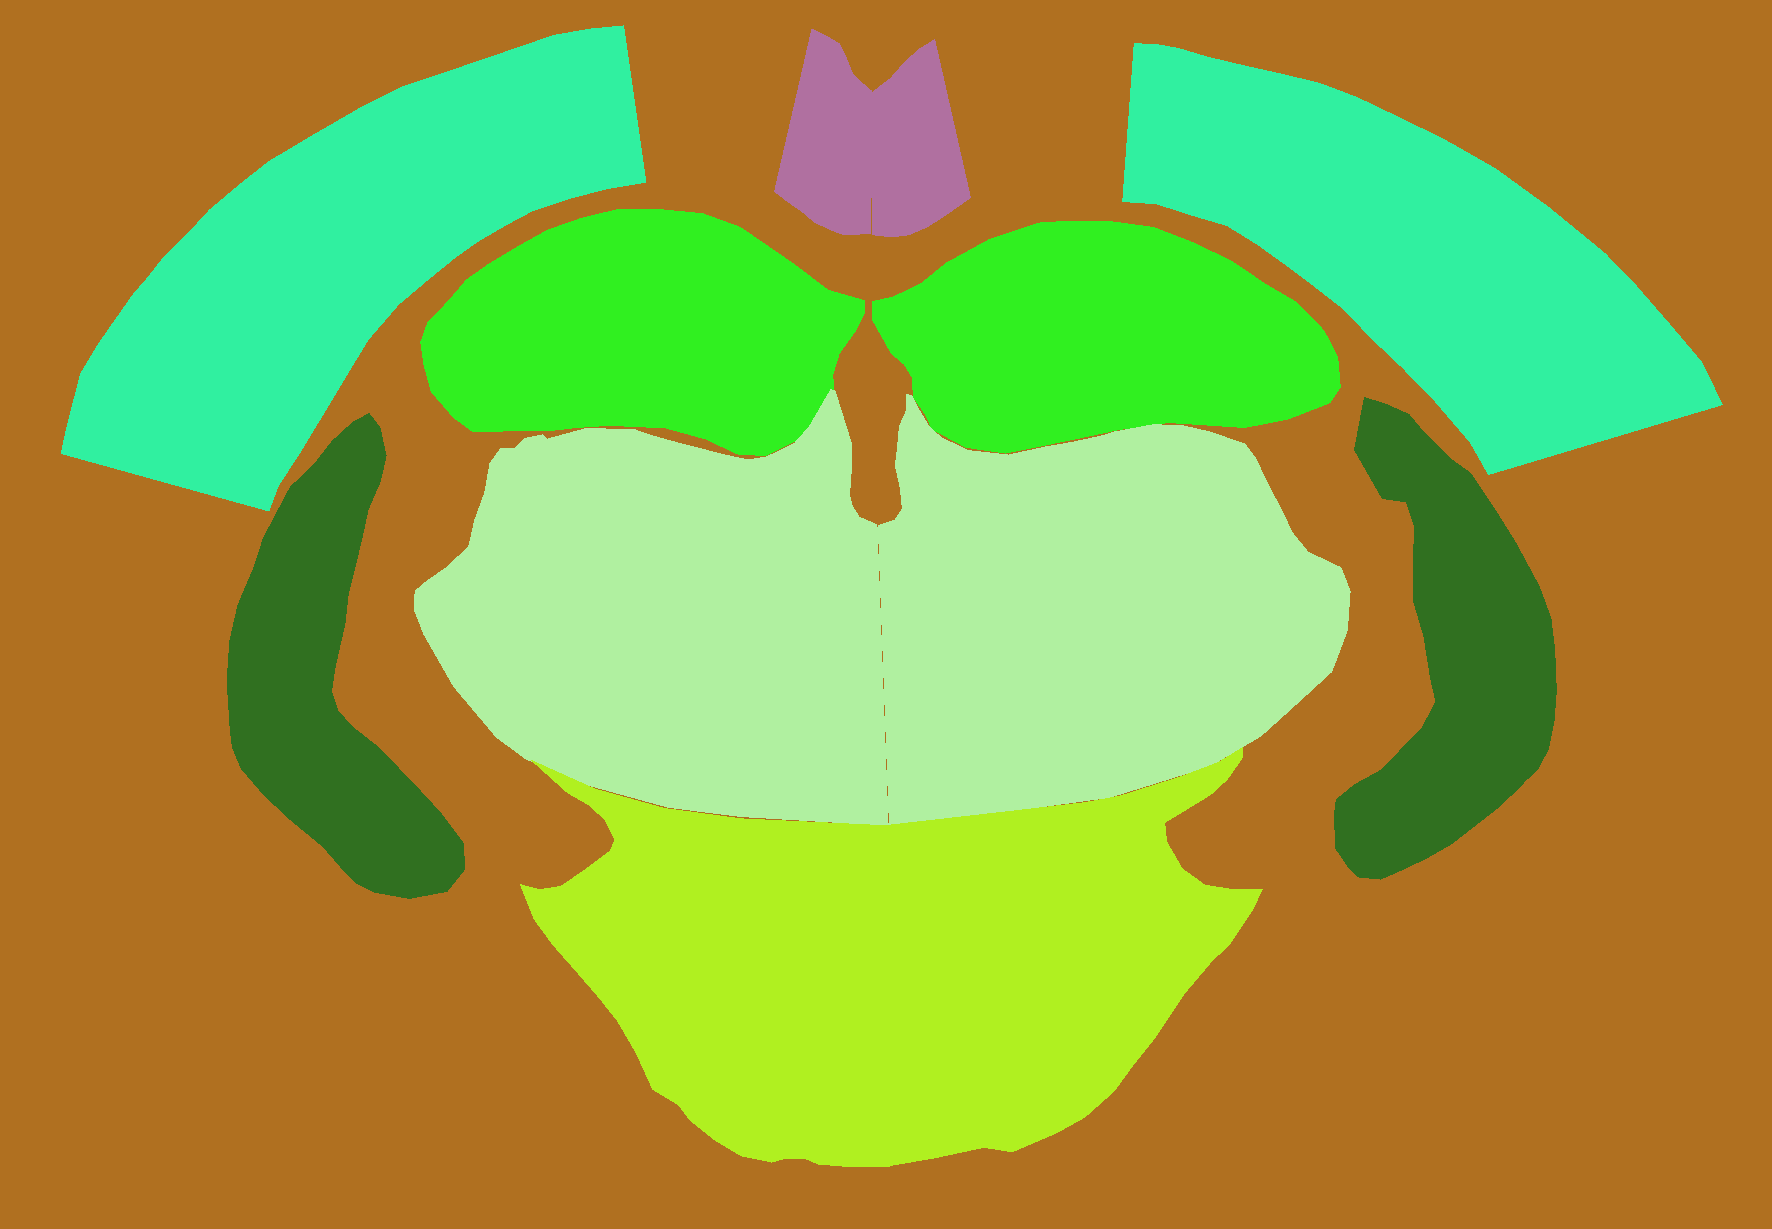Cerebral nuclei: (228, 413, 466, 899), (1334, 397, 1557, 880)
Hippocampal formation: (420, 209, 864, 456), (873, 221, 1341, 454)
Hypothalamus: (887, 747, 1263, 1166), (520, 759, 891, 1167)
Retrosplenial area: (774, 28, 873, 234), (873, 39, 971, 237)
Somatosensory area: (61, 26, 648, 512), (1122, 43, 1724, 475)
Thalamus: (413, 389, 887, 827), (878, 394, 1351, 827)
